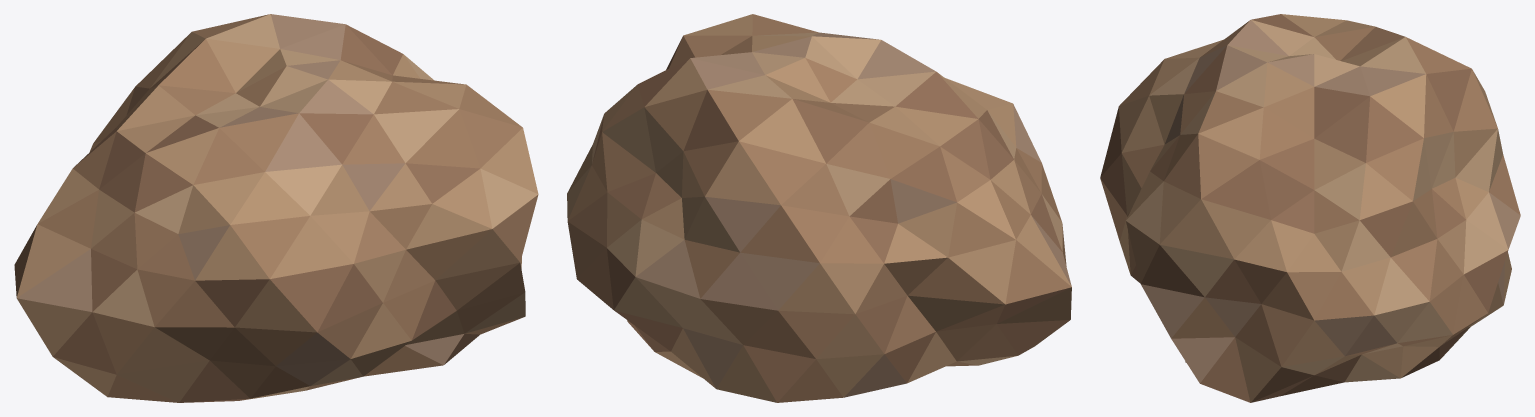
Rendered from rocha_grande.glb.
3 renders of one model, left to right at view 1: azimuth 30°, elevation 25°; view 2: azimuth 150°, elevation 25°; view 3: azimuth 270°, elevation 25°, orthographic. The views are drawn at different scales.
Parts seen in each view (by area): view 1: Rocha grande maciça; view 2: Rocha grande maciça; view 3: Rocha grande maciça.
Part boxes in pixels (x1,y1,x2,y2): Rocha grande maciça: (14, 14, 538, 402); Rocha grande maciça: (567, 14, 1071, 402); Rocha grande maciça: (1100, 14, 1520, 402).
Bounding box in the file's own units: 2.19 × 1.2 × 1.67.
